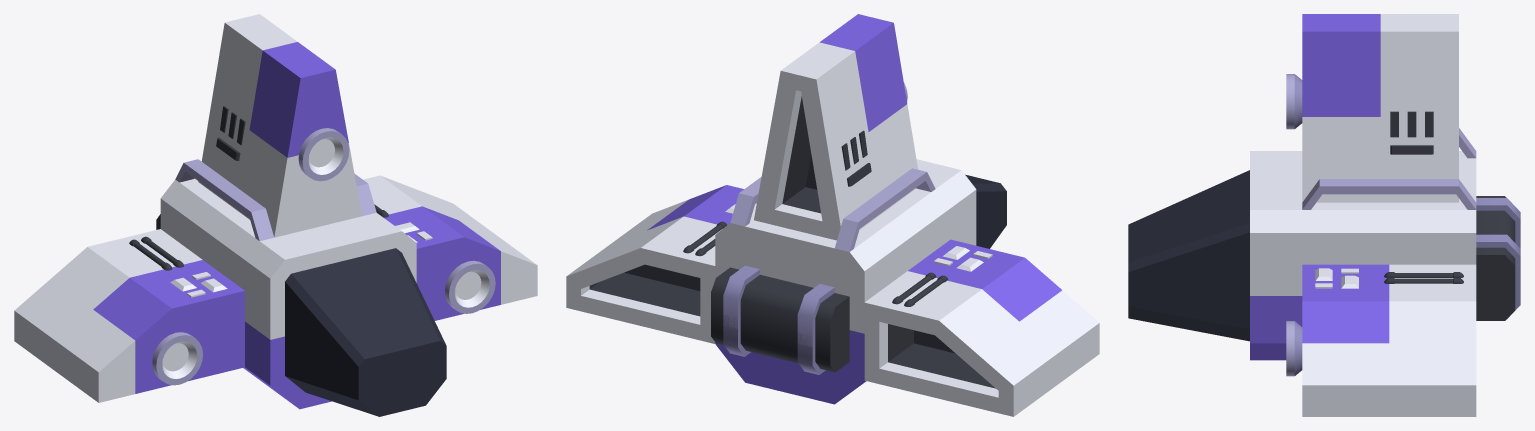
Rendered from Ship_1.fbx.
3 renders of one model, left to right at view 1: azimuth 30°, elevation 25°; view 2: azimuth 150°, elevation 25°; view 3: azimuth 270°, elevation 25°, orthographic. The views are drawn at different scales.
Parts seen in each view (by area): view 1: engine_flat (×2), hull_cockpitExtended%, engine_flatEdge, detail_light (×3), hull_body, detail_rail%, detail_panelsC, detail_pipesLarge, detail_panelsA; view 2: engine_flat (×2), engine_flatEdge, hull_body, detail_luggage (×2), hull_cockpitExtended%, detail_rail%, detail_pipesLarge (×2), detail_panelsC, detail_panelsA; view 3: hull_cockpitExtended%, engine_flatEdge, engine_flat, hull_body, detail_luggage (×2), detail_rail%, detail_light (×2), detail_panelsC, detail_pipesLarge, detail_panelsA.
Boxes of the visible parts, x1,y1,x2,y2 form: engine_flat (×2): (14,175,537,402); hull_cockpitExtended%: (245,212,446,416); engine_flatEdge: (198,14,361,237); detail_light (×3): (152,128,495,385); hull_body: (160,178,271,388); detail_rail%: (175,159,376,240); detail_panelsC: (216,106,245,160); detail_pipesLarge: (129,236,183,270); detail_panelsA: (170,272,227,297); engine_flat (×2): (566,185,1099,416); engine_flatEdge: (754,14,917,240); hull_body: (715,188,950,404); detail_luggage (×2): (711,265,849,374); hull_cockpitExtended%: (916,159,1006,248); detail_rail%: (730,168,935,251); detail_pipesLarge (×2): (683,221,948,306); detail_panelsC: (841,130,871,186); detail_panelsA: (934,246,992,271); hull_cockpitExtended%: (1128,151,1302,360); engine_flatEdge: (1302,14,1458,202); engine_flat: (1302,264,1476,416); hull_body: (1302,151,1476,264); detail_luggage (×2): (1476,196,1520,320); detail_rail%: (1302,128,1476,209); detail_light (×2): (1286,74,1302,376); detail_panelsC: (1390,111,1433,154); detail_pipesLarge: (1384,272,1463,283); detail_panelsA: (1315,268,1358,288).
Size of the model in its own units: 30 by 20 by 22.55.
